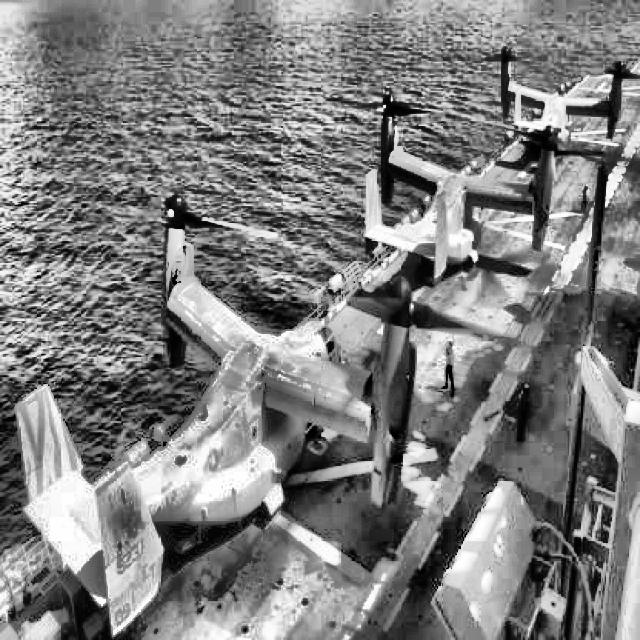V22: (15, 192, 482, 637), (327, 89, 605, 283), (469, 46, 640, 151)
